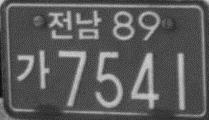1: (174, 49, 190, 116)
4: (128, 51, 163, 109)
5: (92, 50, 125, 108)
7: (52, 47, 88, 107)
8: (112, 9, 135, 41)
9: (138, 8, 160, 42)
가: (14, 50, 49, 94)
전남_O: (45, 9, 101, 41)
